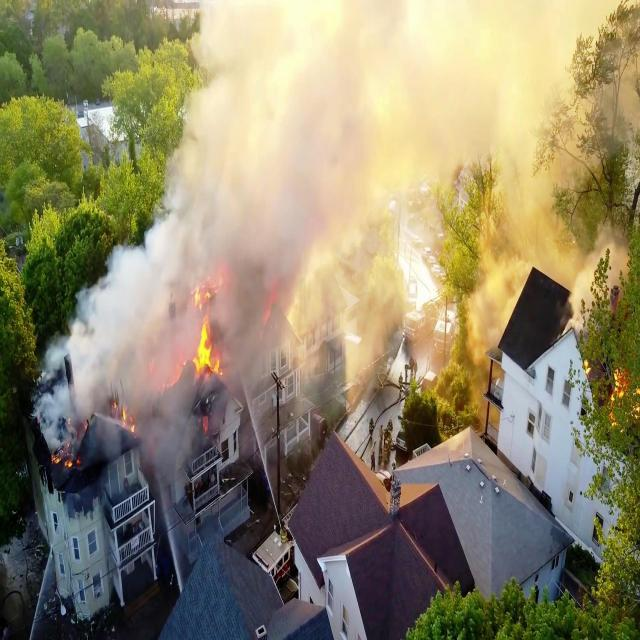Fire: (186, 298, 221, 371)
Smoke: (240, 7, 558, 142), (210, 8, 308, 258), (94, 266, 167, 386)
